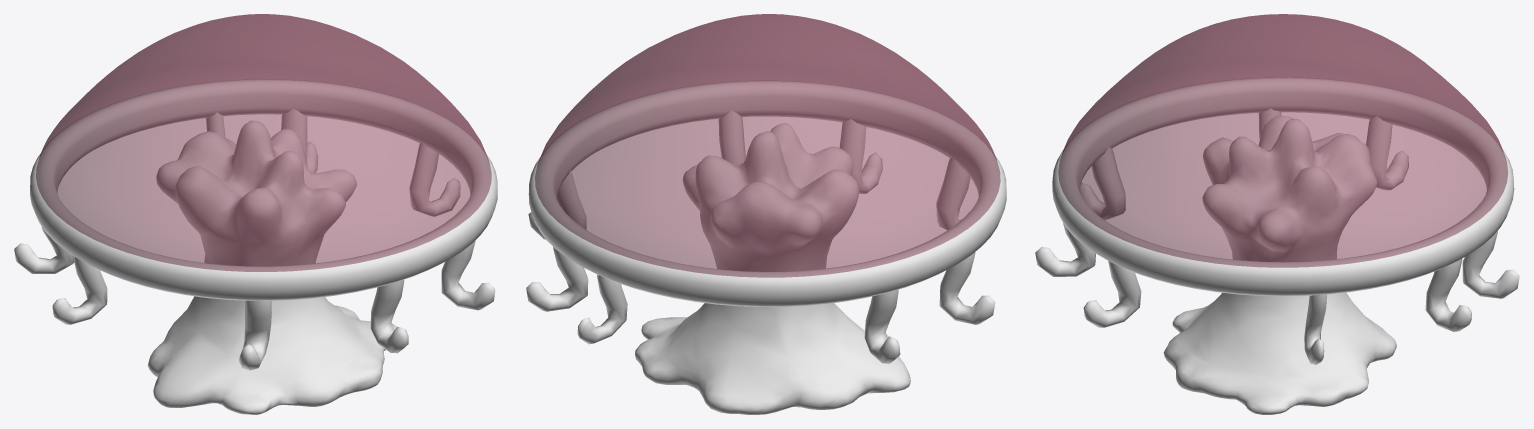
File: JellyShroom.fbx
3 views of the same model, side by side, from view 1: azimuth 30°, elevation 25°; view 2: azimuth 150°, elevation 25°; view 3: azimuth 270°, elevation 25° (orthographic). The views are drawn at different scales.
Visible parts, largest first — view 1: lightshroomLOD0; view 2: lightshroomLOD0; view 3: lightshroomLOD0.
Boxes of the visible parts, <box> form: lightshroomLOD0: <box>14,14,497,414</box>; lightshroomLOD0: <box>526,14,1006,414</box>; lightshroomLOD0: <box>1035,14,1519,414</box>.
Size of what is drawn, in the model's own units: 178 by 132 by 175.
